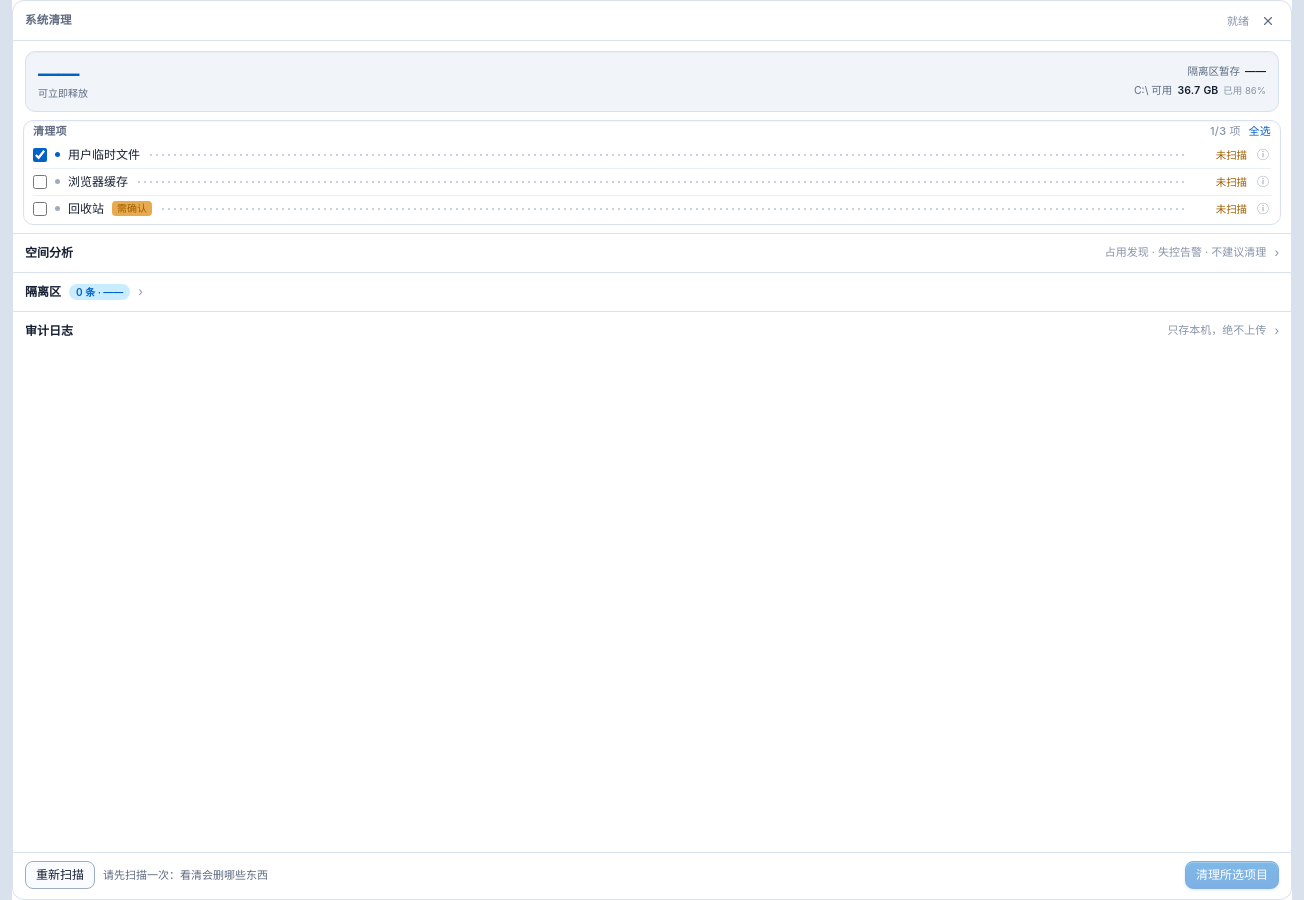
SystemCleanerTool › 「全选」一次勾上全部清理项，「全不选」一次取消（按钮文案随状态翻面）
The image size is (1304, 900).
expect the checkbox labelled "用户临时文件 未扫描 ⓘ" is checked: met, box [33,148,47,162]
expect the checkbox labelled "浏览器缓存 未扫描 ⓘ" is not checked: met, box [33,175,47,189]
// 全选：含标着「需确认」的回收站，计数随之对得上（少勾一项会让 n/N 看着像坏了）
Click the button "全选" at (1260, 131), box [1249,123,1271,140]
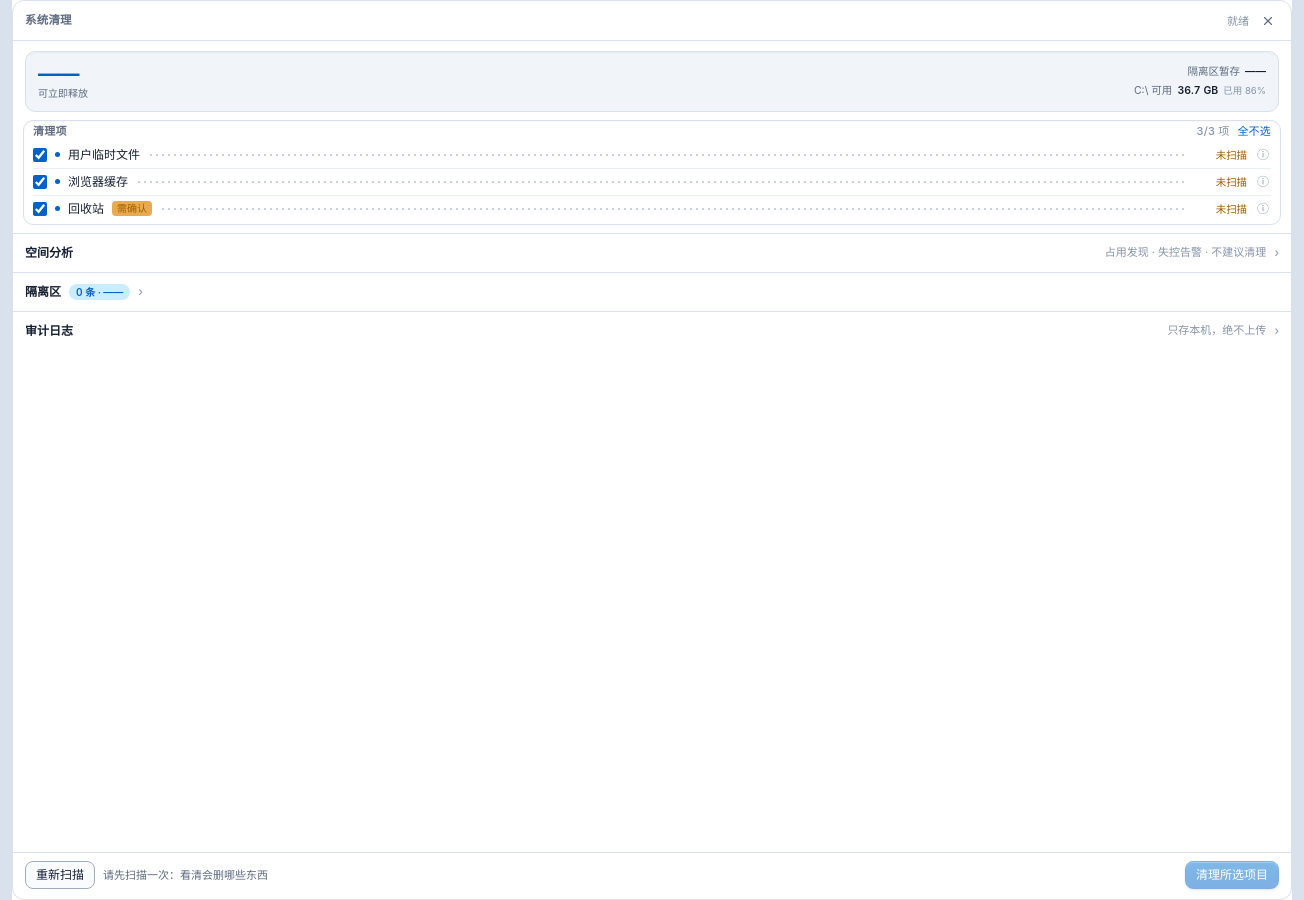
expect the checkbox labelled "浏览器缓存 未扫描 ⓘ" is checked: met, box [33,175,47,189]
expect the checkbox labelled "回收站 需确认 未扫描 ⓘ" is checked: met, box [33,202,47,216]
expect the text "3/3 项" is shown: met, box [1196,123,1229,140]
Click the button "全不选" at (1254, 131), box [1237,123,1271,140]
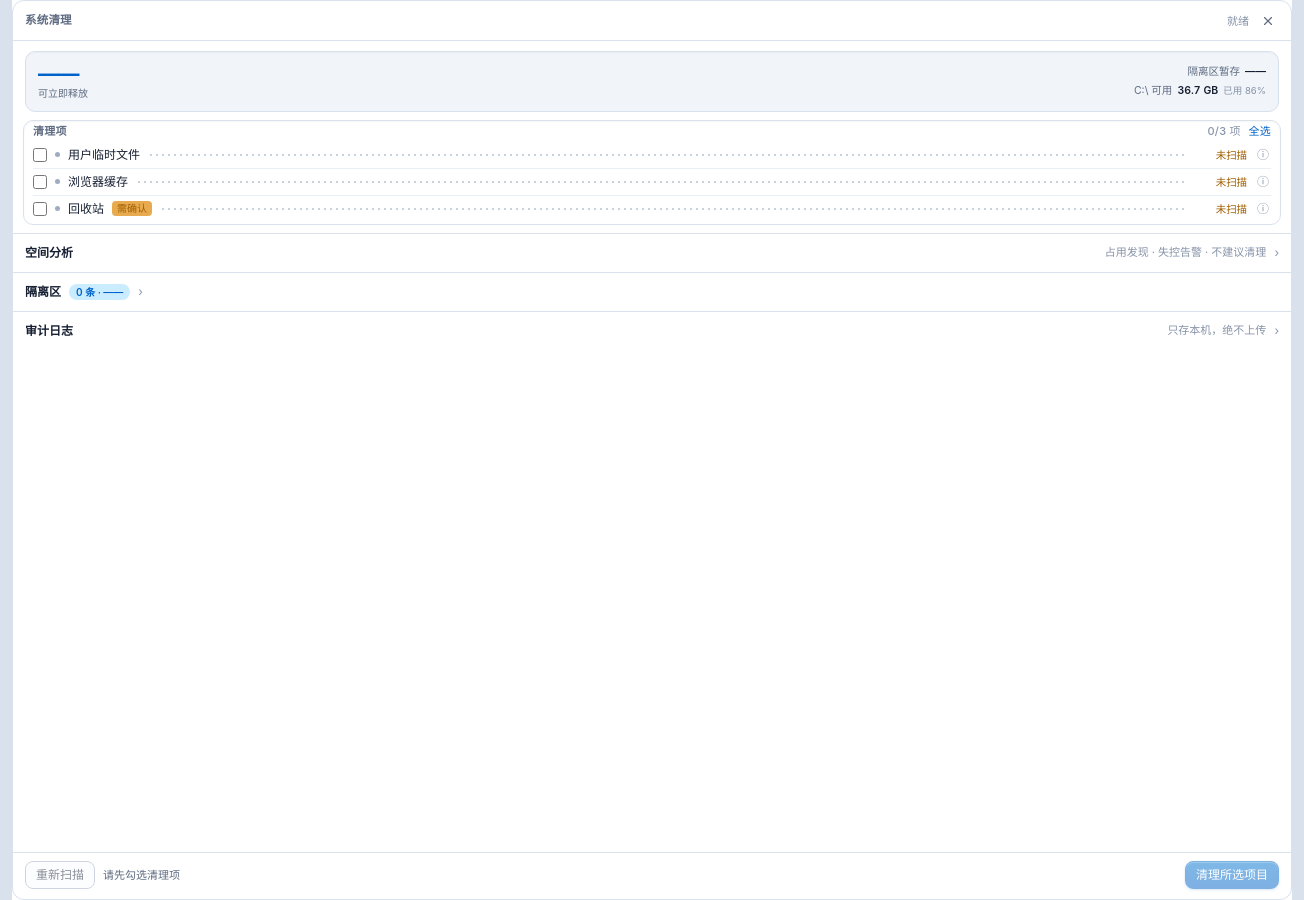
expect the checkbox labelled "用户临时文件 未扫描 ⓘ" is not checked: met, box [33,148,47,162]
expect the checkbox labelled "浏览器缓存 未扫描 ⓘ" is not checked: met, box [33,175,47,189]
expect the checkbox labelled "回收站 需确认 未扫描 ⓘ" is not checked: met, box [33,202,47,216]
